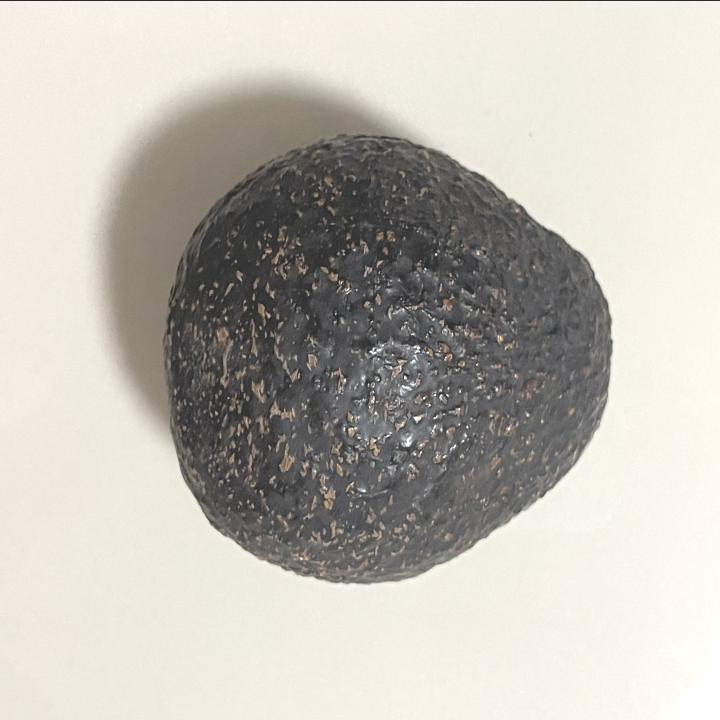Level3: (155, 117, 629, 601)
